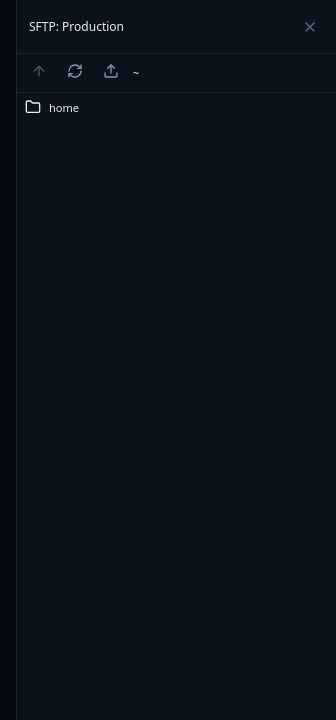
Scenario: SFTPPanel › переходит по папкам и возвращается на уровень выше
Double-click the text "home".
double_click(64, 107)  # box [49,100,79,114]
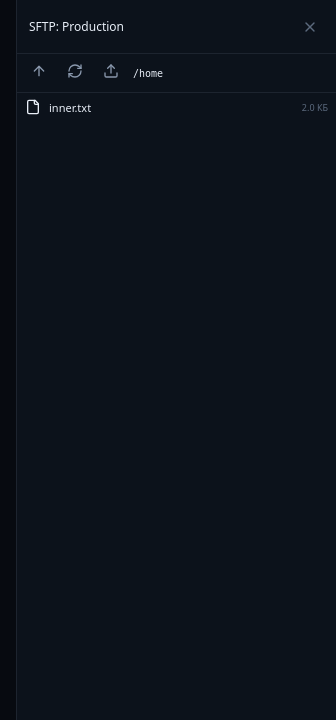
Check: the text "/home" is shown, box [133,68,163,78]
Check: the text "inner.txt" is shown, box [49,100,91,114]
Check: the 2nd button is enabled
Click the 2nd button.
click(39, 73)  # box [25,62,53,84]
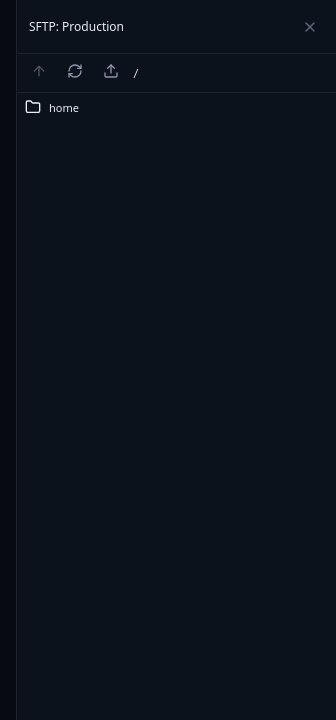
Check: the text "home" is shown, box [49,100,79,114]
